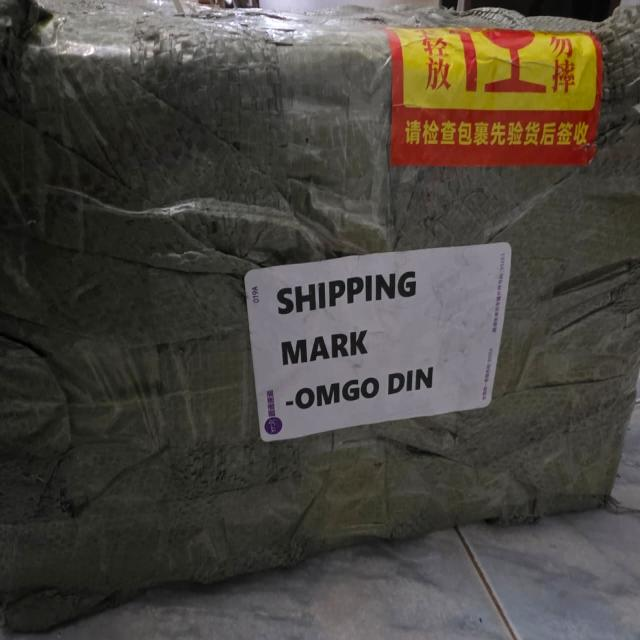export_mark_label: (251, 263, 504, 448)
